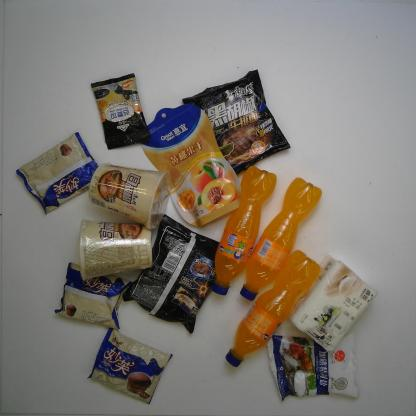Dessert: (10, 132, 100, 217), (84, 324, 175, 406), (53, 259, 126, 334)
Dried Fruit: (139, 102, 245, 229)
Drink: (222, 246, 323, 370), (237, 174, 324, 301), (209, 164, 280, 296)
Instant Drink: (86, 70, 154, 152)
Instant Noodles: (121, 213, 230, 334), (180, 69, 294, 178), (74, 211, 157, 283), (84, 160, 170, 226)
Seasoner: (261, 330, 362, 404)
Tissue: (290, 255, 381, 356)
